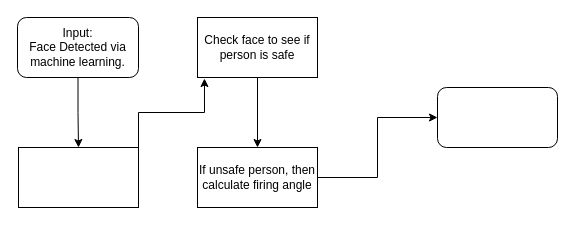
The diagram is 575 pixels wide and 225 high, and some of its shapes have lost their labels. The box of each missing label's shape, as (x1, y1, x2, y2) in pixels:
Location of face in comparison to camera calculated.: (18, 146, 138, 208)
Output: Whether the machine fires and what angle: (436, 86, 558, 148)
